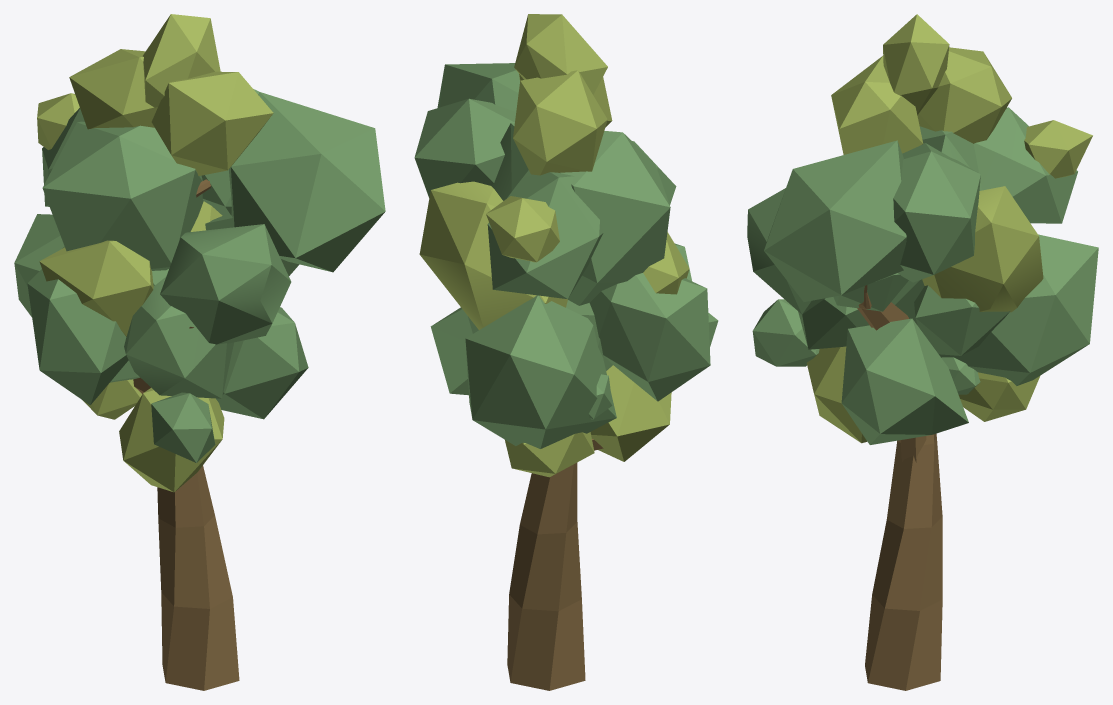
Rendered from tree3.fbx.
3 renders of one model, left to right at view 1: azimuth 30°, elevation 25°; view 2: azimuth 150°, elevation 25°; view 3: azimuth 270°, elevation 25°, orthographic. The views are drawn at different scales.
Visible parts, largest first — view 1: sceneSetting1:pPlatonic12, sceneSetting1:pPlatonic7, sceneSetting1:Toter_Baum, sceneSetting1:pPlatonic19, sceneSetting1:pPlatonic27, sceneSetting1:pPlatonic14, sceneSetting1:pPlatonic20, sceneSetting1:pPlatonic24, sceneSetting1:pPlatonic28, sceneSetting1:pPlatonic13, sceneSetting1:pPlatonic11, sceneSetting1:pPlatonic18 (+6 smaller); view 2: sceneSetting1:pPlatonic22, sceneSetting1:Toter_Baum, sceneSetting1:pPlatonic7, sceneSetting1:pPlatonic14, sceneSetting1:pPlatonic5, sceneSetting1:pPlatonic13, sceneSetting1:pPlatonic6, sceneSetting1:pPlatonic21, sceneSetting1:pPlatonic11, sceneSetting1:pPlatonic18, sceneSetting1:pPlatonic25, sceneSetting1:pPlatonic12 (+5 smaller); view 3: sceneSetting1:Toter_Baum, sceneSetting1:pPlatonic12, sceneSetting1:pPlatonic28, sceneSetting1:pPlatonic22, sceneSetting1:pPlatonic21, sceneSetting1:pPlatonic5, sceneSetting1:pPlatonic6, sceneSetting1:pPlatonic13, sceneSetting1:pPlatonic27, sceneSetting1:pPlatonic11, sceneSetting1:pPlatonic4, sceneSetting1:pPlatonic26 (+9 smaller).
Part boxes in pixels (x1,y1,x2,y2): sceneSetting1:pPlatonic12: (228, 92, 385, 272); sceneSetting1:pPlatonic7: (42, 121, 203, 270); sceneSetting1:Toter_Baum: (133, 179, 239, 690); sceneSetting1:pPlatonic19: (160, 224, 291, 344); sceneSetting1:pPlatonic27: (151, 71, 273, 175); sceneSetting1:pPlatonic14: (27, 246, 128, 405); sceneSetting1:pPlatonic20: (124, 277, 233, 398); sceneSetting1:pPlatonic24: (39, 240, 153, 336); sceneSetting1:pPlatonic28: (216, 307, 308, 419); sceneSetting1:pPlatonic13: (69, 49, 157, 129); sceneSetting1:pPlatonic11: (143, 14, 220, 107); sceneSetting1:pPlatonic18: (119, 387, 224, 492); sceneSetting1:pPlatonic22: (465, 295, 616, 448); sceneSetting1:Toter_Baum: (507, 439, 603, 690); sceneSetting1:pPlatonic7: (491, 123, 670, 305); sceneSetting1:pPlatonic14: (589, 273, 710, 401); sceneSetting1:pPlatonic5: (419, 181, 567, 329); sceneSetting1:pPlatonic13: (513, 70, 607, 175); sceneSetting1:pPlatonic6: (487, 170, 603, 299); sceneSetting1:pPlatonic21: (414, 98, 516, 197); sceneSetting1:pPlatonic11: (514, 14, 607, 94); sceneSetting1:pPlatonic18: (590, 365, 671, 461); sceneSetting1:pPlatonic25: (486, 196, 559, 262); sceneSetting1:pPlatonic12: (437, 63, 519, 111); sceneSetting1:Toter_Baum: (857, 285, 942, 690); sceneSetting1:pPlatonic12: (764, 140, 906, 301); sceneSetting1:pPlatonic28: (841, 318, 968, 444); sceneSetting1:pPlatonic22: (939, 234, 1098, 385); sceneSetting1:pPlatonic21: (893, 143, 980, 282); sceneSetting1:pPlatonic5: (922, 186, 1043, 312); sceneSetting1:pPlatonic6: (973, 107, 1077, 223); sceneSetting1:pPlatonic13: (917, 47, 1011, 143); sceneSetting1:pPlatonic27: (831, 55, 923, 154); sceneSetting1:pPlatonic11: (883, 14, 949, 115); sceneSetting1:pPlatonic4: (914, 285, 1010, 355); sceneSetting1:pPlatonic26: (752, 299, 819, 366).
Bounding box in the file's own units: 60.13 × 123 × 60.61.
